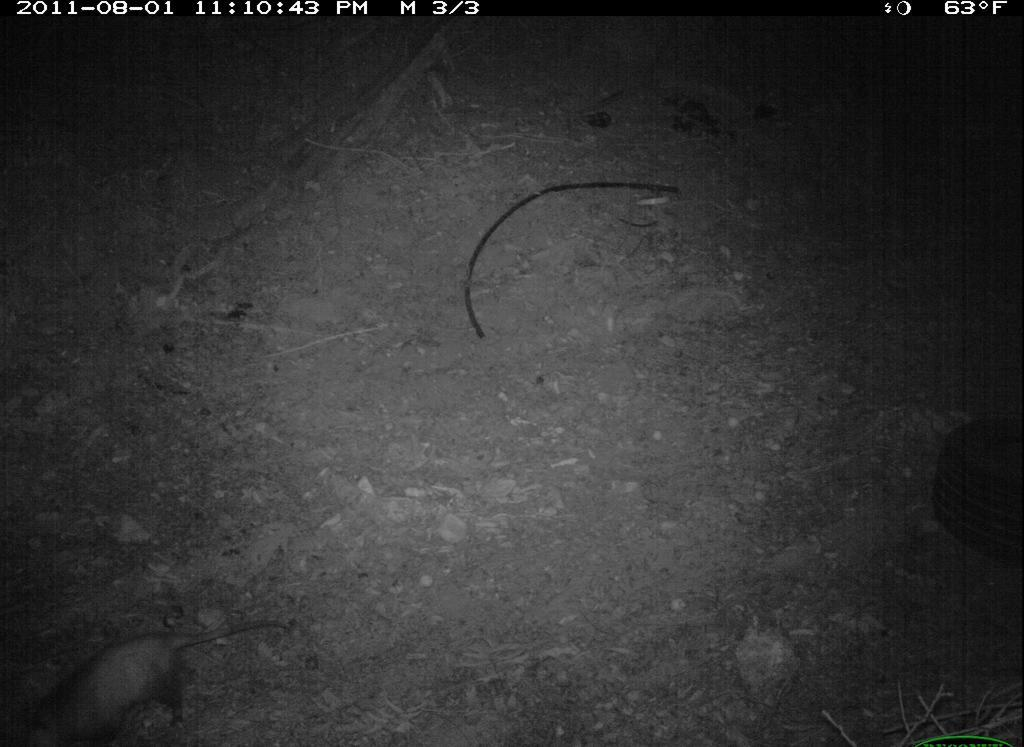opossum: (35, 610, 308, 747)
